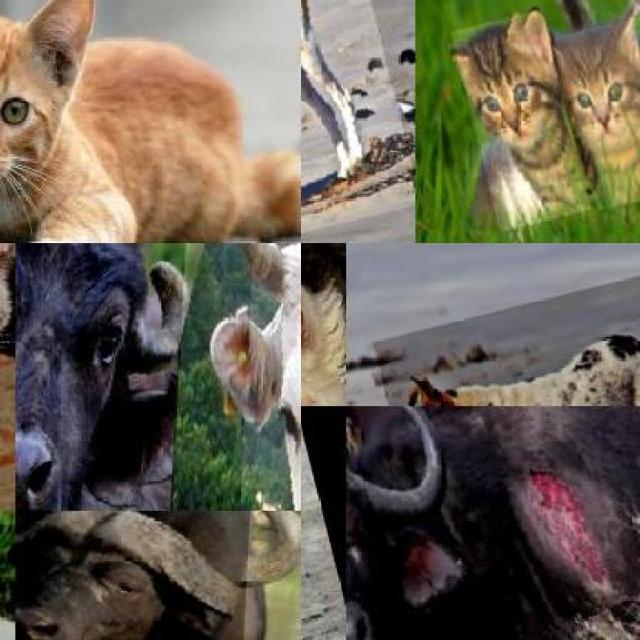buffalo: (346, 406, 640, 640), (15, 243, 188, 511), (16, 511, 256, 640)
cat: (0, 0, 243, 243), (451, 8, 592, 232), (554, 15, 640, 211)
cow: (228, 243, 300, 511)
dog: (372, 260, 640, 406), (300, 0, 415, 243)
injured: (504, 407, 636, 625), (300, 263, 343, 406)
